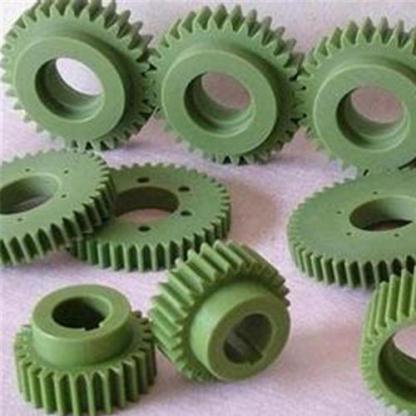FOD: (147, 0, 306, 170), (0, 0, 157, 156), (148, 237, 294, 389), (60, 160, 235, 275), (292, 13, 415, 176), (12, 282, 159, 415), (280, 170, 415, 289), (0, 145, 117, 273), (355, 269, 415, 415)
